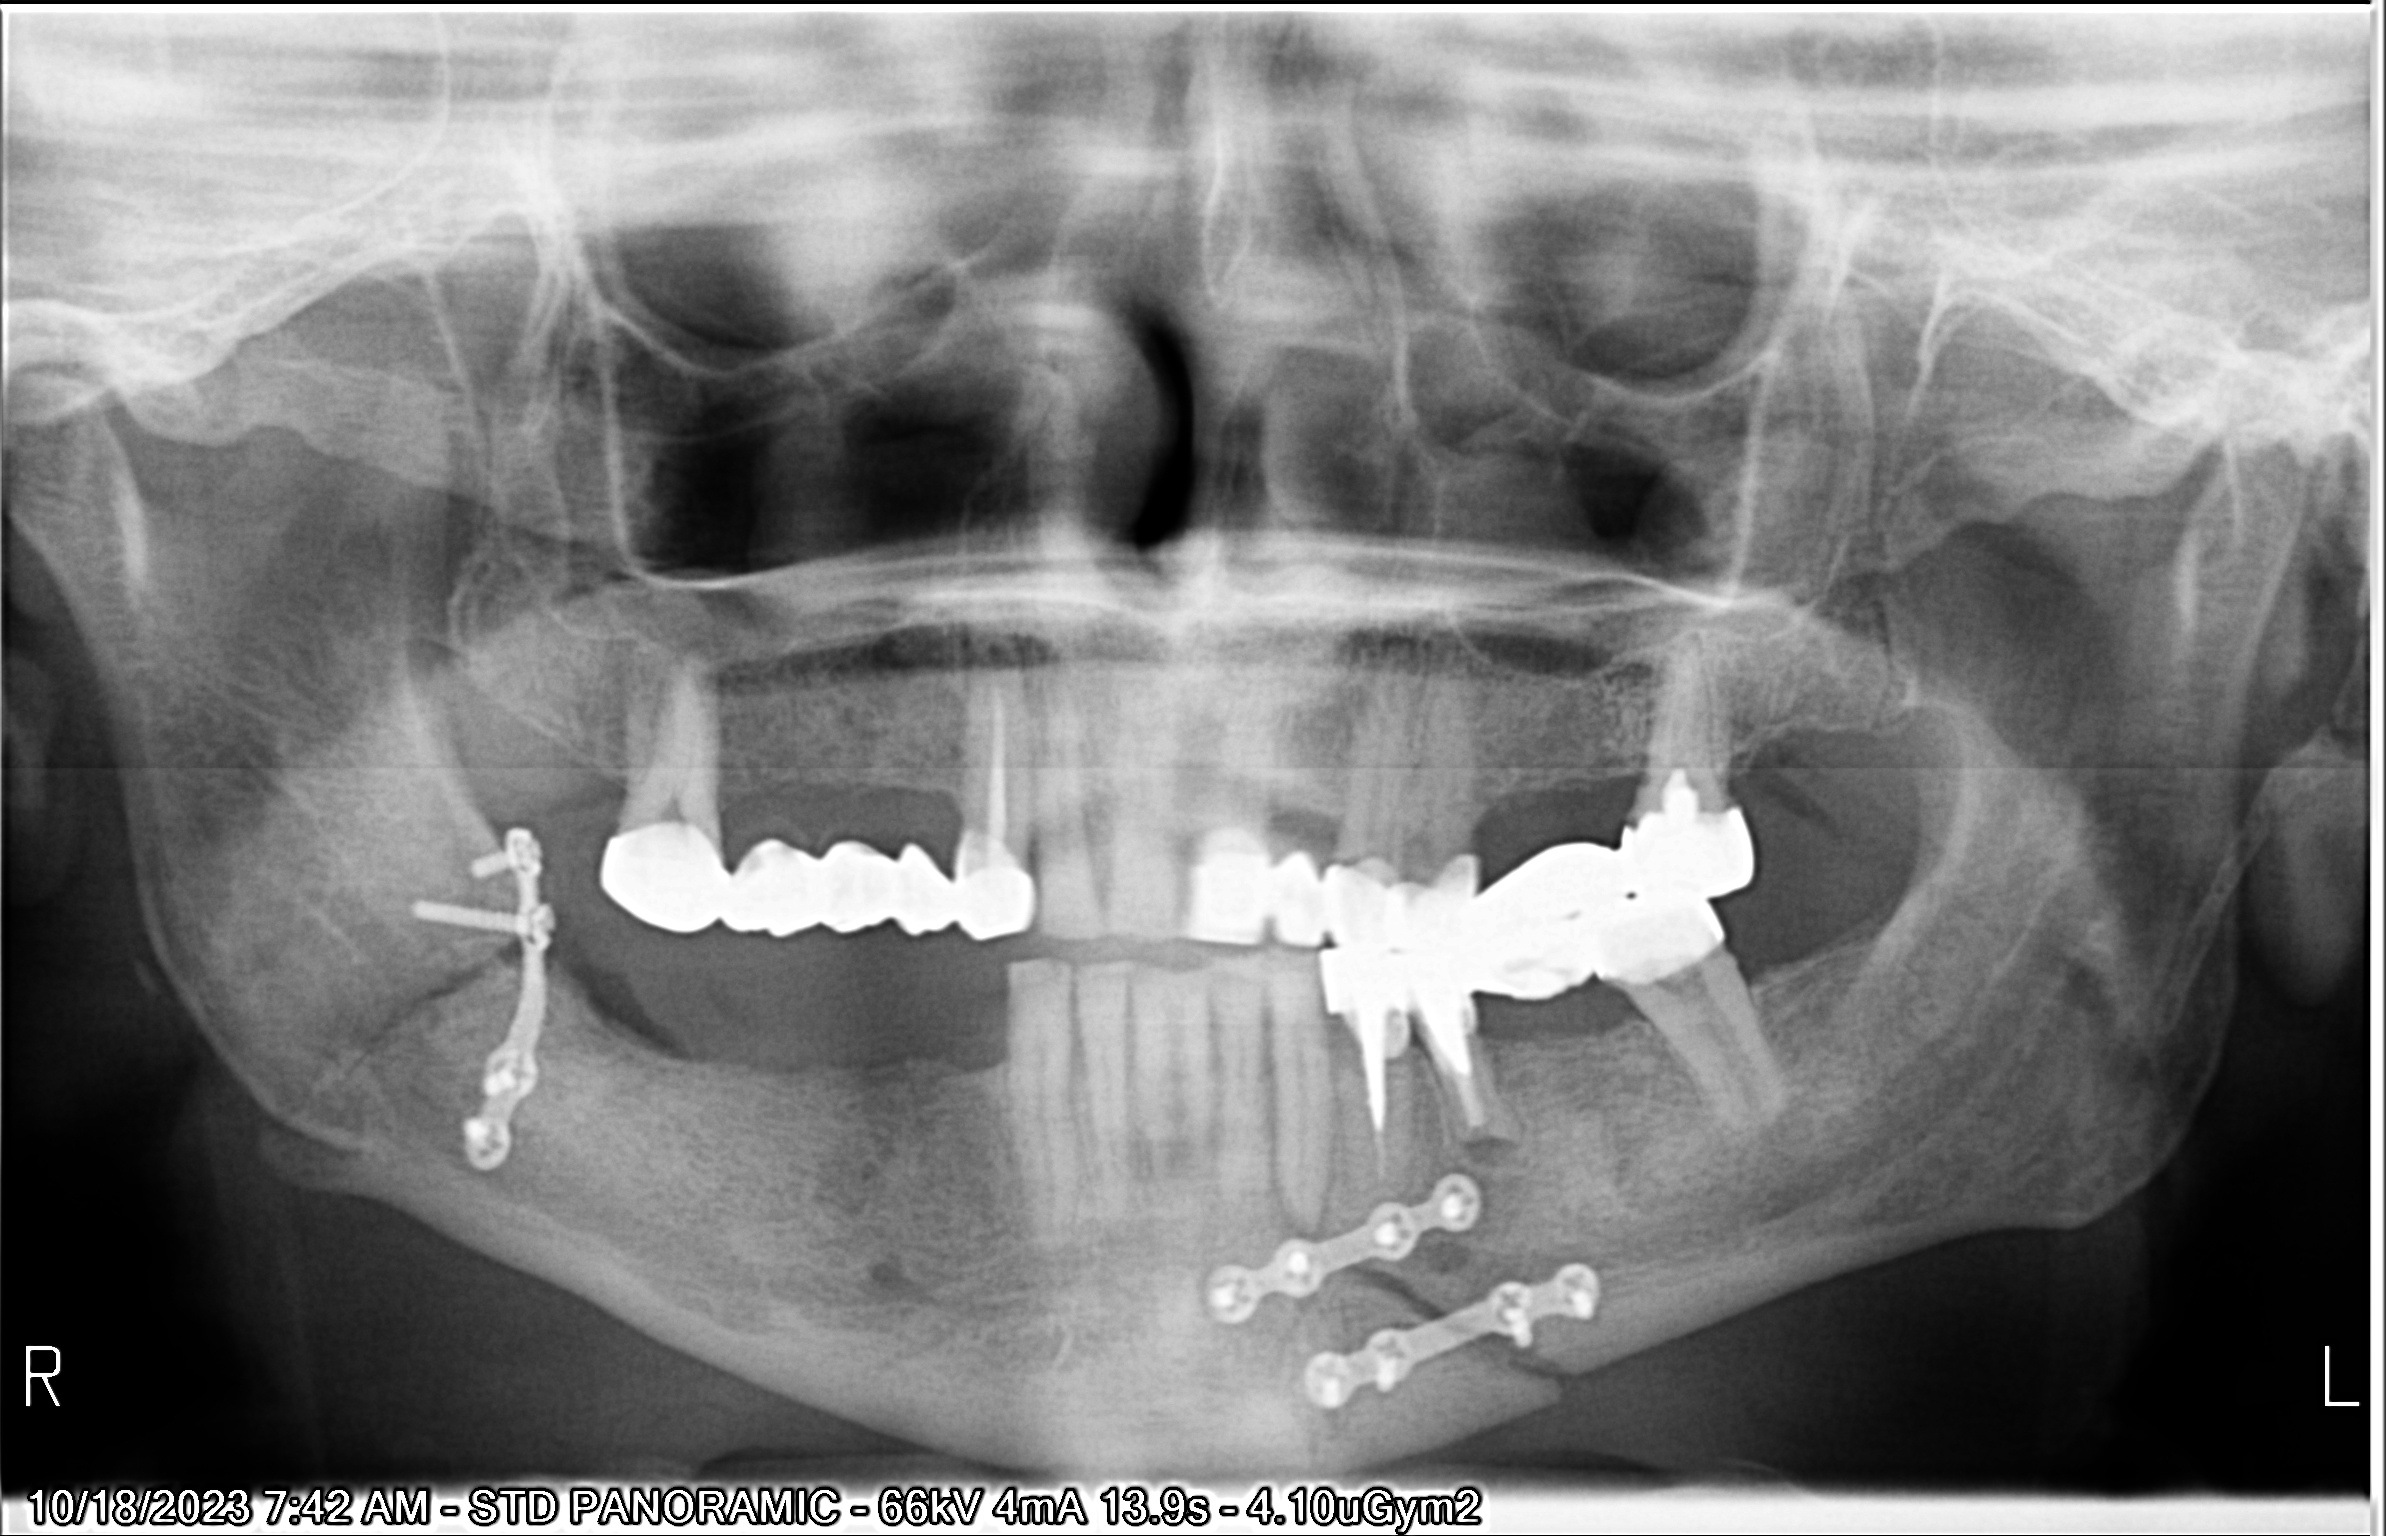APS: (1428, 1110, 1556, 1195)
CAR: (1311, 997, 1393, 1079)
END: (1337, 1054, 1410, 1211), (972, 645, 1028, 849), (1443, 1011, 1510, 1136)
PRR: (1181, 769, 1779, 960), (569, 785, 1050, 985), (1283, 878, 1772, 1061)
SRD: (1179, 1098, 1523, 1386), (402, 778, 586, 1204), (1268, 1240, 1640, 1447)
